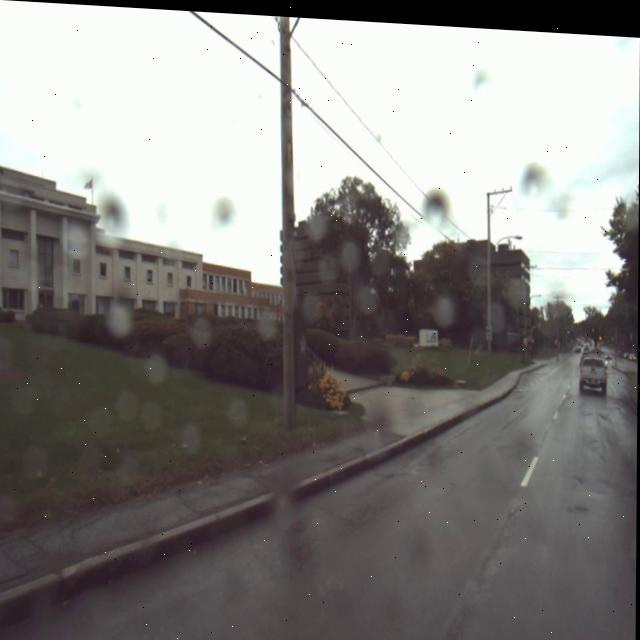car: (579, 350, 609, 389)
